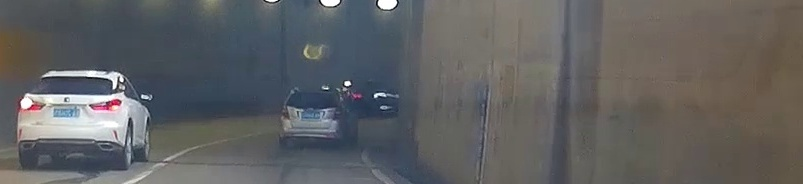L_light: (19, 97, 46, 111)
R_light: (89, 98, 123, 111)
T_light: (67, 76, 80, 79)
day-left: (17, 68, 126, 168)
